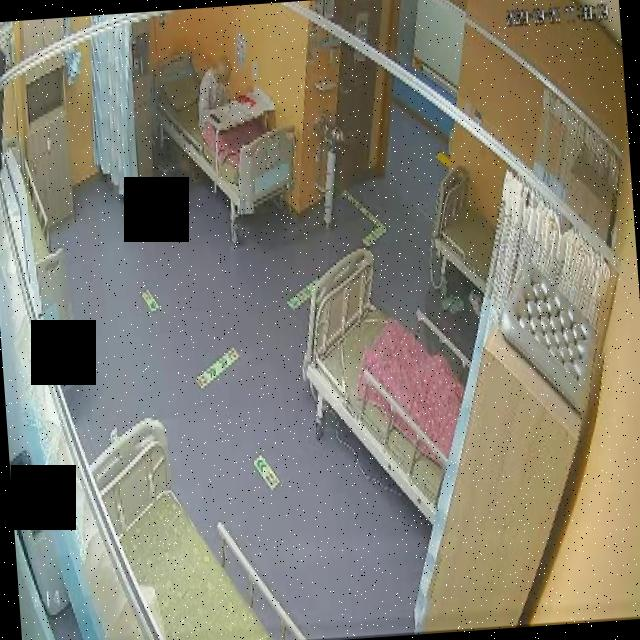bed: (84, 411, 305, 640), (297, 244, 473, 528), (145, 44, 301, 222), (428, 163, 500, 298)
patient: (192, 55, 236, 132)
sit: (193, 57, 234, 133)
